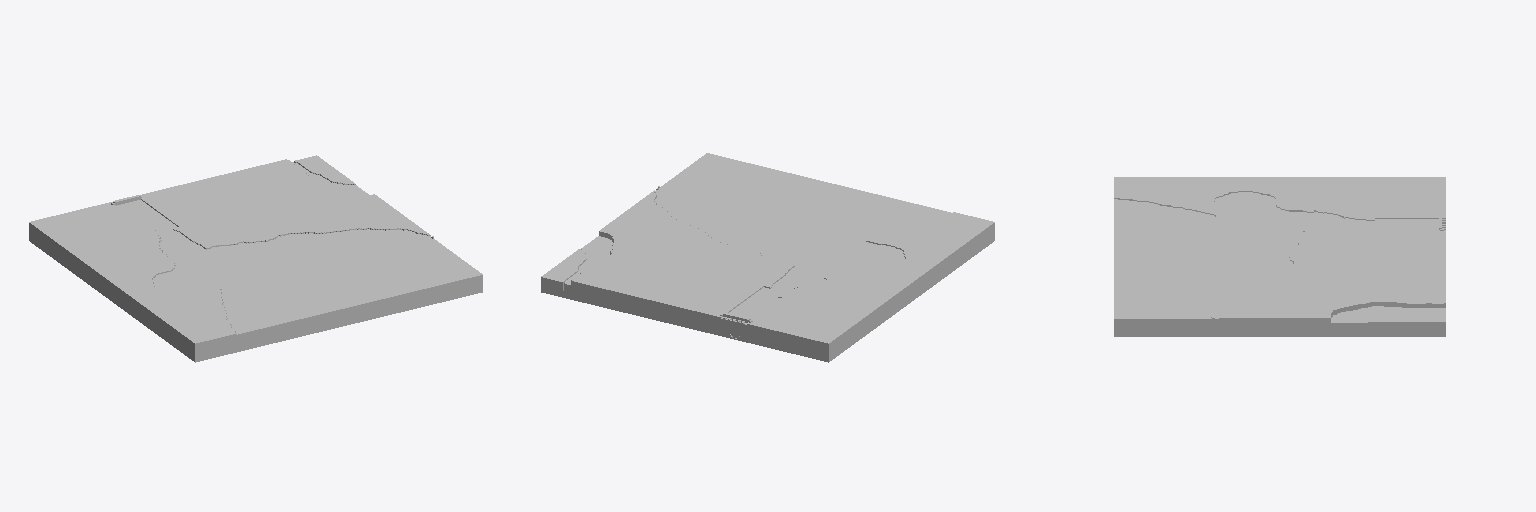
File: lvl1-5.obj
The picture shows the model from 3 angles: view 1: azimuth 30°, elevation 25°; view 2: azimuth 150°, elevation 25°; view 3: azimuth 270°, elevation 25°; orthographic projection.
Parts seen in each view (by area): view 1: object 1; view 2: object 1; view 3: object 1.
Part boxes in pixels (left/top/right/bottom): object 1: left=29, top=155, right=482, bottom=362; object 1: left=541, top=153, right=994, bottom=362; object 1: left=1114, top=177, right=1445, bottom=336.
Bounding box in the file's own units: 25.6 × 1.8 × 25.6.